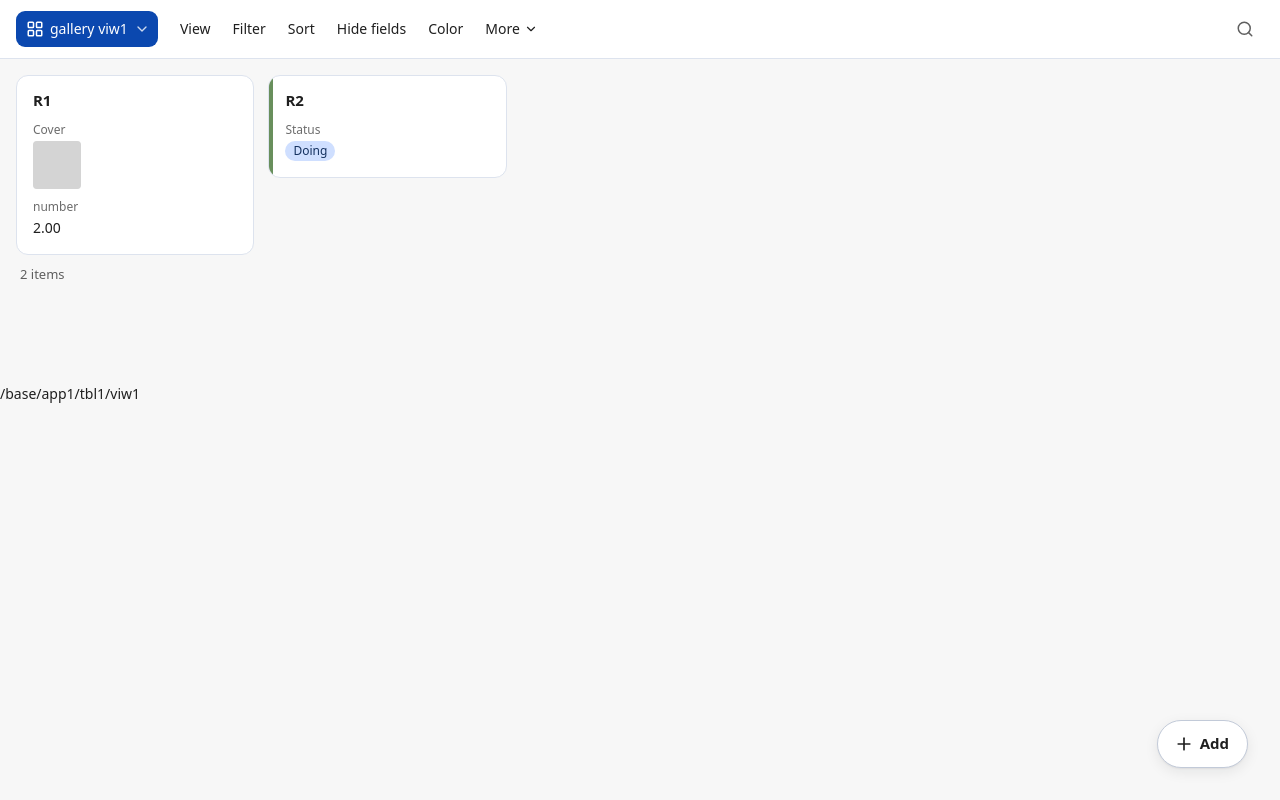
it: GalleryView › says why the crop setting is off when the view has no cover
Expected: the button "R1 Cover number 2.00" is shown, [16,75,254,255]
Click the button "View" at (195, 29), box [170,11,220,47]
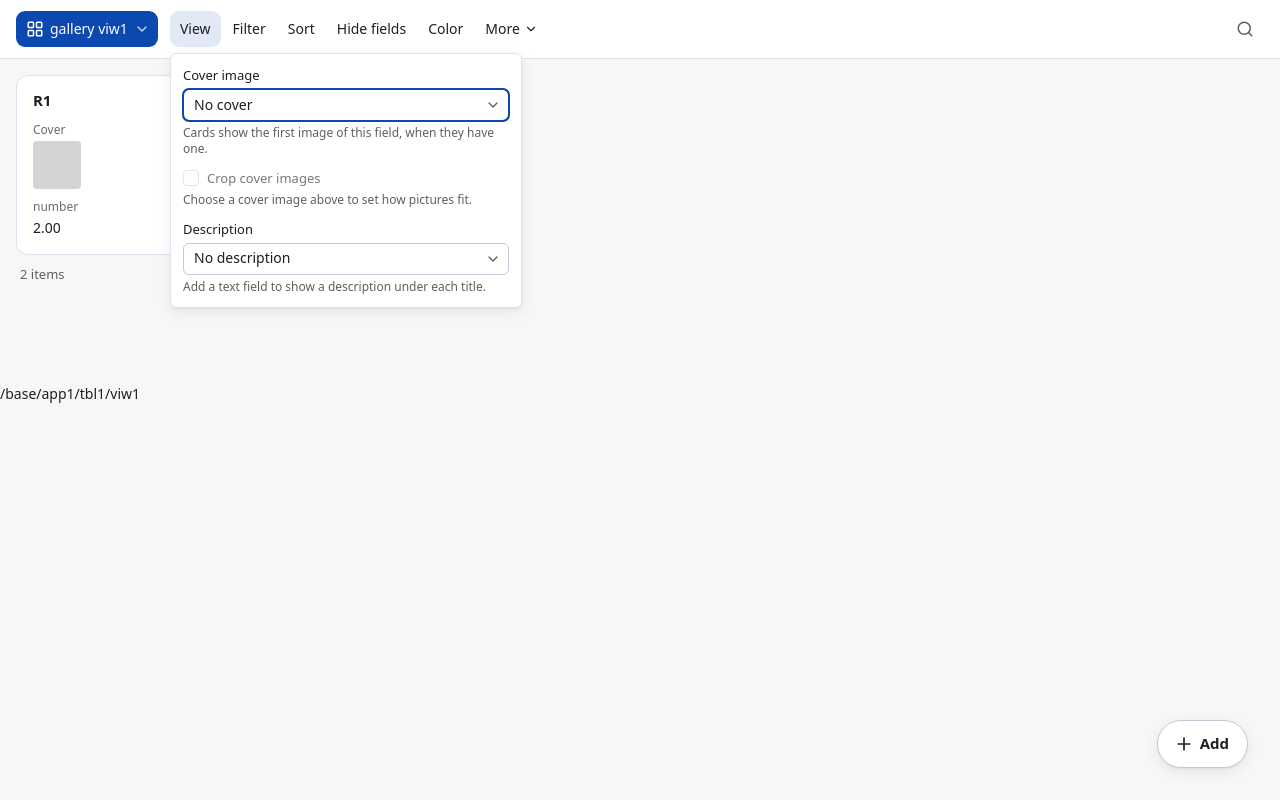
Expected: the checkbox named "Crop cover images" is disabled, [183,170,199,186]
Expected: the text "Choose a cover image above to set how pictures fit." is shown, [183,192,509,208]
